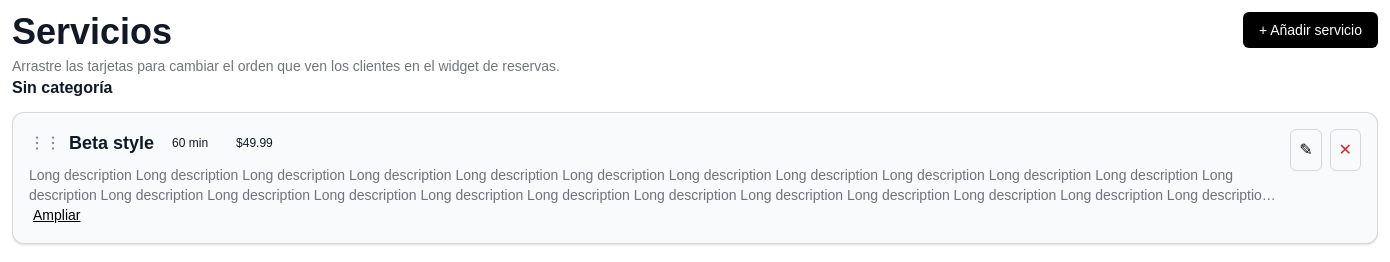
Scenario: AdminServicesPage › formats non-integer prices and expands long descriptions
The width and height of the screenshot is (1390, 262).
Expected: the text "$49.99" is shown, [226,133,283,153]
Click the button named "Ampliar": (654, 195) [29,165,1278,225]
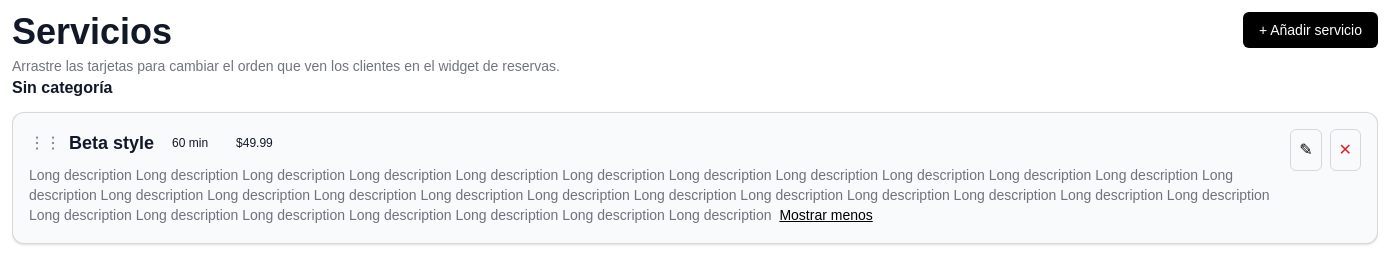
Expected: the button named "Mostrar menos" is shown
Click the button named "Mostrar menos": (654, 195) [29,165,1278,225]
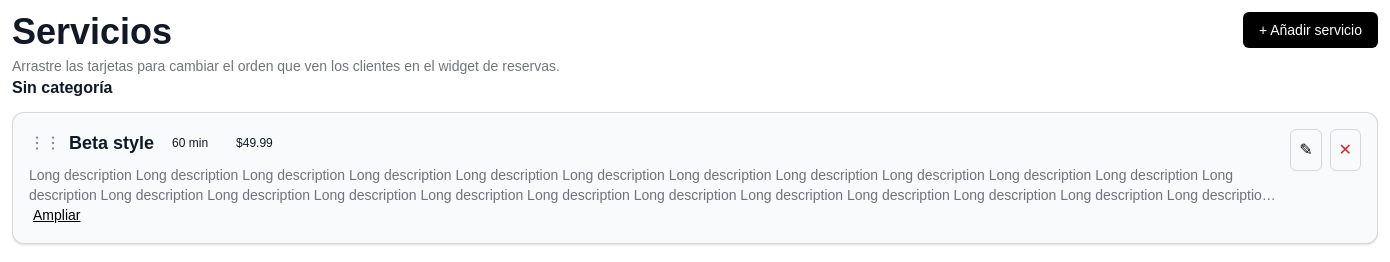
Expected: the button named "Ampliar" is shown, [29,165,1278,225]
